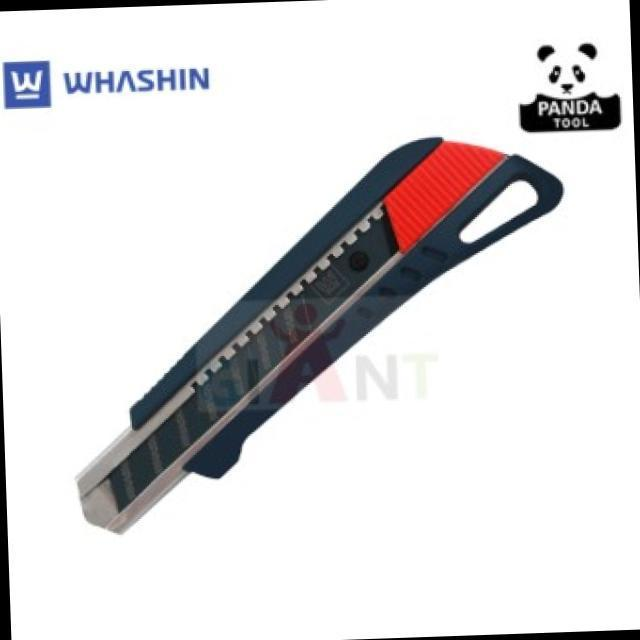cutter: (52, 108, 586, 550)
